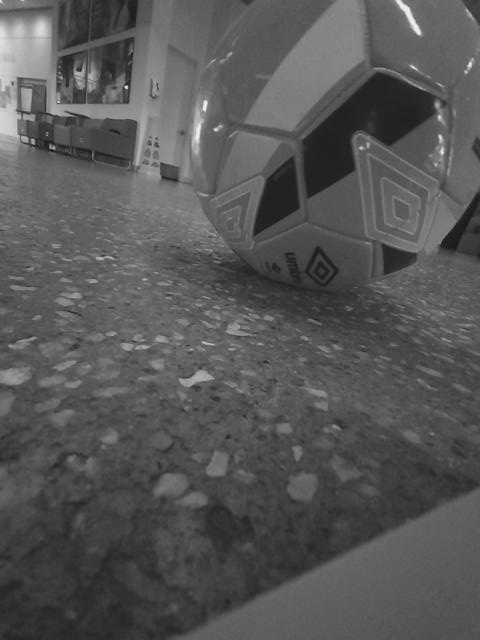ball: (213, 290, 294, 370)
